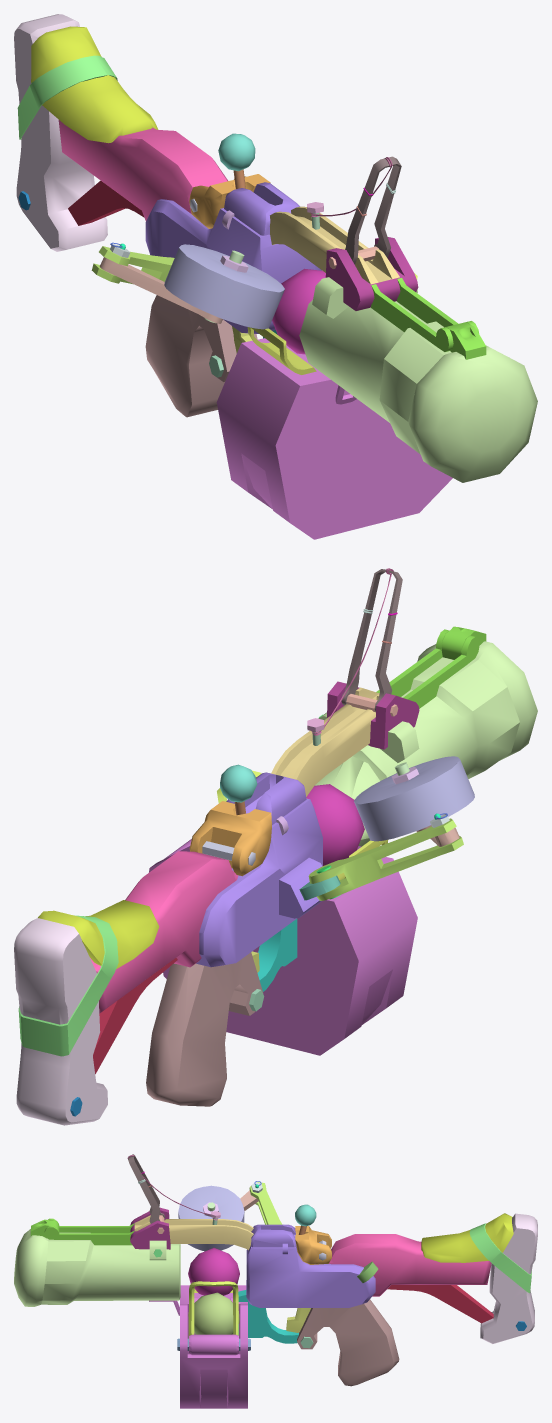
3 renders of one model, top to bottom at view 1: azimuth 30°, elevation 25°; view 2: azimuth 150°, elevation 25°; view 3: azimuth 270°, elevation 25°, orthographic. The views are drawn at different scales.
Parts seen in each view (by area): view 1: split_parent_40, split_parent_27, stop_hilt_Textured_0, Gun_LOD0_Stock_stock_main_Textured_0, split_parent_13, handle_Textured_0, stock_top_Textured_0, wheel_tire_Textured_0, topfront_2_Textured_0, topfront_1_Textured_0, topfront1_1_Textured_0, split_parent_19 (+8 smaller); view 2: split_parent_40, split_parent_27, stop_hilt_Textured_0, split_parent_13, handle_Textured_0, Gun_LOD0_Stock_stock_main_Textured_0, wheel_tire_Textured_0, topfront_2_Textured_0, basearm_main_Textured_0, stock_top_Textured_0, split_parent_19, topbackpart_3_Textured_0 (+7 smaller); view 3: split_parent_27, split_parent_13, split_parent_40, Gun_LOD0_Stock_stock_main_Textured_0, handle_Textured_0, stop_hilt_Textured_0, stock_top_Textured_0, topfront_2_Textured_0, wheel_tire_Textured_0, topfront_1_Textured_0, Bullet1_Textured_0, Bullet2_Textured_0 (+10 smaller).
Boxes of the visible parts, left/top/right/bottom form: split_parent_40: left=216, top=338, right=452, bottom=539; split_parent_27: left=299, top=277, right=537, bottom=482; stop_hilt_Textured_0: left=14, top=14, right=107, bottom=251; Gun_LOD0_Stock_stock_main_Textured_0: left=58, top=120, right=227, bottom=220; split_parent_13: left=145, top=182, right=321, bottom=333; handle_Textured_0: left=145, top=295, right=257, bottom=417; stock_top_Textured_0: left=31, top=26, right=158, bottom=143; wheel_tire_Textured_0: left=164, top=244, right=284, bottom=329; topfront_2_Textured_0: left=270, top=206, right=399, bottom=284; topfront_1_Textured_0: left=371, top=278, right=486, bottom=359; topfront1_1_Textured_0: left=325, top=237, right=418, bottom=310; split_parent_19: left=17, top=55, right=117, bottom=139; split_parent_40: left=149, top=839, right=417, bottom=1055; split_parent_27: left=315, top=641, right=537, bottom=846; stop_hilt_Textured_0: left=14, top=918, right=107, bottom=1125; split_parent_13: left=196, top=772, right=322, bottom=967; handle_Textured_0: left=146, top=952, right=263, bottom=1106; Gun_LOD0_Stock_stock_main_Textured_0: left=90, top=851, right=238, bottom=1013; wheel_tire_Textured_0: left=354, top=756, right=474, bottom=841; topfront_2_Textured_0: left=271, top=687, right=379, bottom=796; basearm_main_Textured_0: left=308, top=818, right=463, bottom=900; stock_top_Textured_0: left=38, top=900, right=159, bottom=968; split_parent_19: left=18, top=915, right=118, bottom=1056; topbackpart_3_Textured_0: left=189, top=801, right=271, bottom=876; split_parent_27: left=14, top=1229, right=180, bottom=1306; split_parent_13: left=246, top=1224, right=375, bottom=1307; split_parent_40: left=149, top=1285, right=247, bottom=1408; Gun_LOD0_Stock_stock_main_Textured_0: left=329, top=1234, right=491, bottom=1296; handle_Textured_0: left=297, top=1299, right=399, bottom=1386; stop_hilt_Textured_0: left=480, top=1213, right=537, bottom=1343; stock_top_Textured_0: left=421, top=1213, right=513, bottom=1262; topfront_2_Textured_0: left=134, top=1215, right=253, bottom=1250; wheel_tire_Textured_0: left=178, top=1185, right=244, bottom=1251; topfront_1_Textured_0: left=30, top=1218, right=134, bottom=1245; Bullet1_Textured_0: left=188, top=1248, right=239, bottom=1295; Bullet2_Textured_0: left=188, top=1292, right=239, bottom=1334.
Size of the model in its own units: 0.4105 by 0.4916 by 1.
